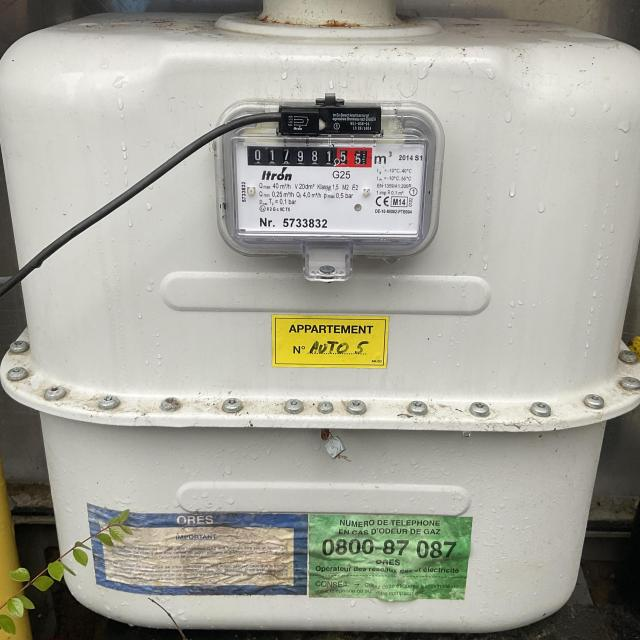gaz_meter: (231, 135, 422, 239)
indication: (248, 146, 373, 167)
